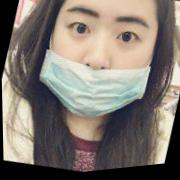WRONG: (32, 1, 167, 139)
